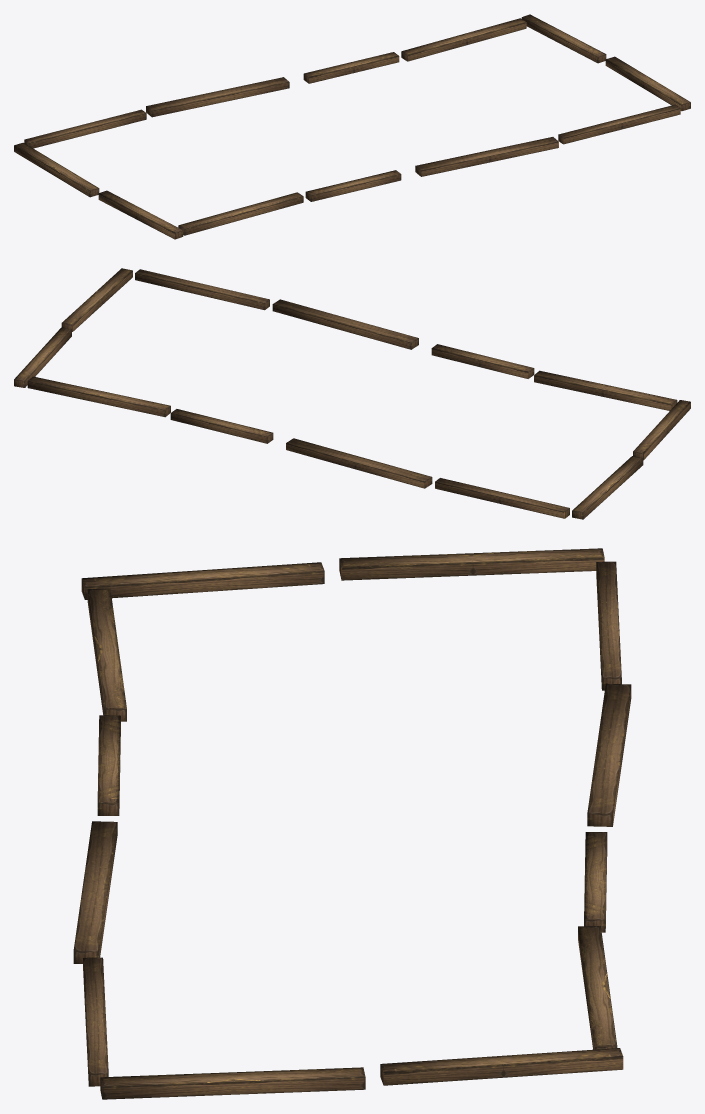
Rendered from Plank_11.FBX.
3 renders of one model, top to bottom at view 1: azimuth 30°, elevation 25°; view 2: azimuth 150°, elevation 25°; view 3: azimuth 270°, elevation 25°, orthographic. The views are drawn at different scales.
Visible parts, largest first — view 1: Plank_11; view 2: Plank_11; view 3: Plank_11.
Boxes of the visible parts, box(x1,y1,x2,y2) form: Plank_11: box(14, 14, 690, 239); Plank_11: box(14, 268, 690, 519); Plank_11: box(73, 548, 631, 1099).
Bounding box in the file's own units: 9.94 × 4.35 × 0.1107.
